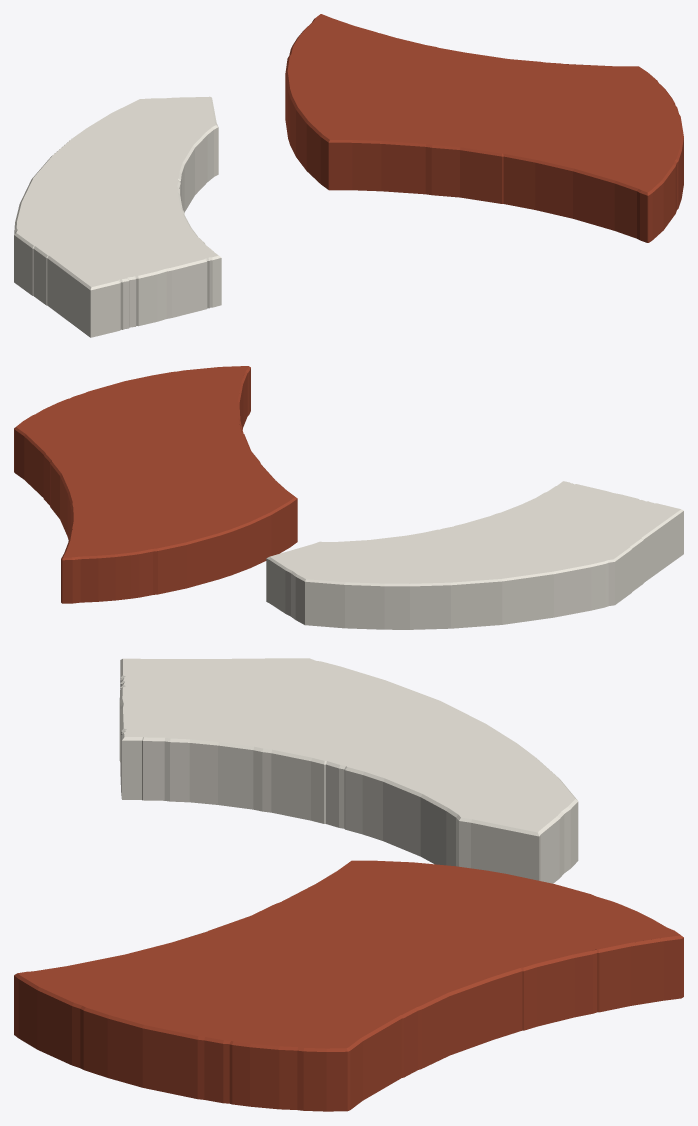
The model's file is mahsulot.glb.
The picture shows the model from 3 angles, top to bottom: view 1: azimuth 30°, elevation 25°; view 2: azimuth 150°, elevation 25°; view 3: azimuth 270°, elevation 25°; orthographic projection. The views are drawn at different scales.
Parts seen in each view (by area): view 1: mahsulot_B, mahsulot_A; view 2: mahsulot_B, mahsulot_A; view 3: mahsulot_B, mahsulot_A.
Part boxes in pixels (<box>): mahsulot_B: <box>285,14,683,242</box>; mahsulot_A: <box>14,96,221,337</box>; mahsulot_B: <box>14,366,297,603</box>; mahsulot_A: <box>266,481,683,629</box>; mahsulot_B: <box>14,860,683,1111</box>; mahsulot_A: <box>119,658,578,883</box>.
Size of the model in its own units: 0.5165 by 0.038 by 0.3726.
